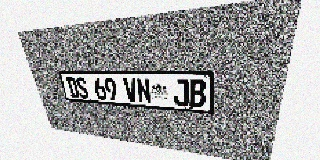6: (92, 77, 107, 100)
9: (103, 77, 119, 101)
B: (189, 79, 206, 108)
D: (65, 77, 80, 98)
J: (173, 79, 189, 106)
N: (136, 78, 152, 104)
S: (75, 77, 90, 99)
V: (123, 78, 139, 103)
